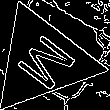M_SE: (7, 26, 79, 94)
